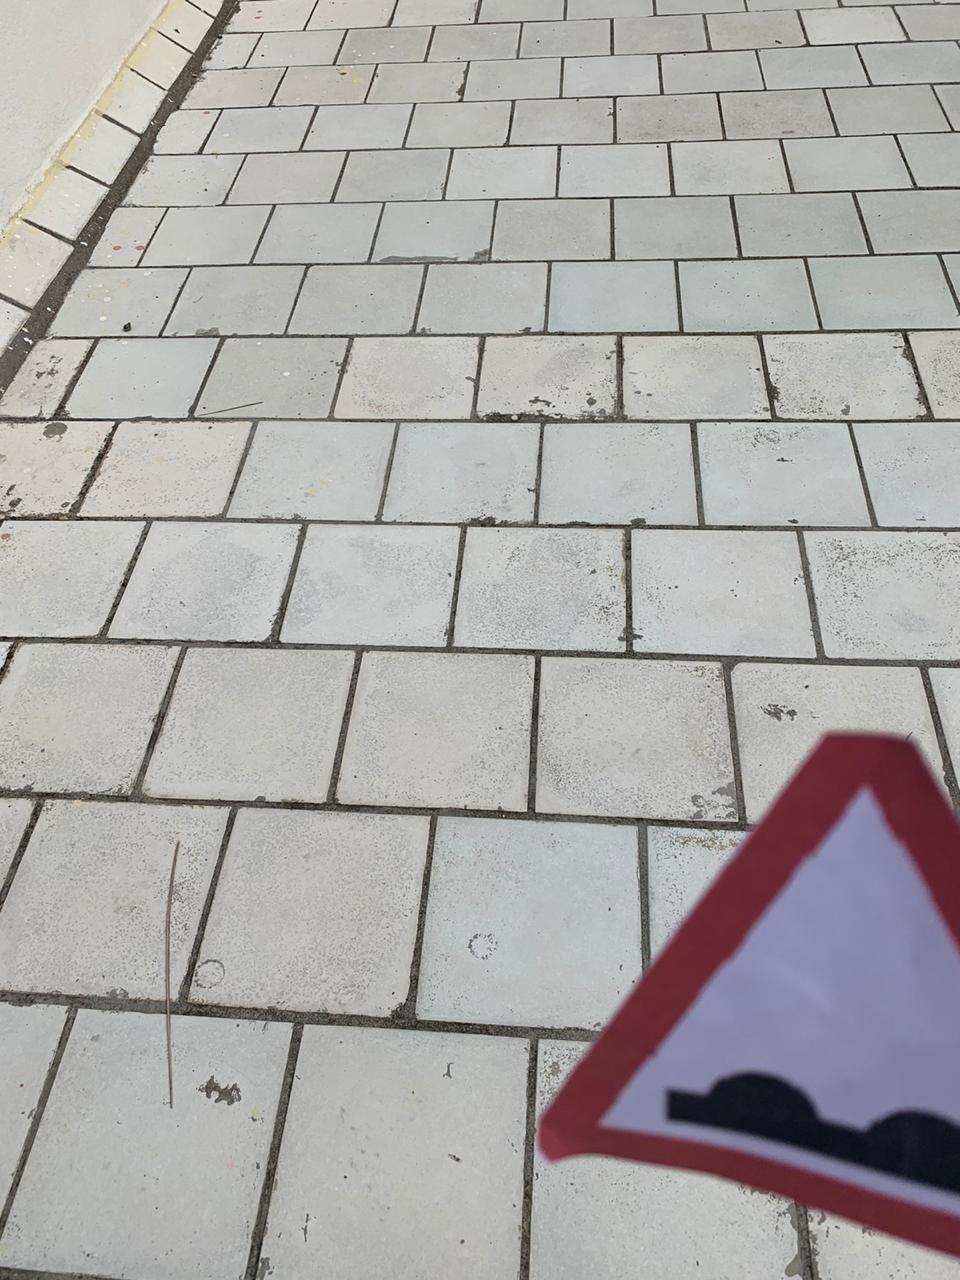UNEVEN ROAD: (518, 719, 960, 1260)
